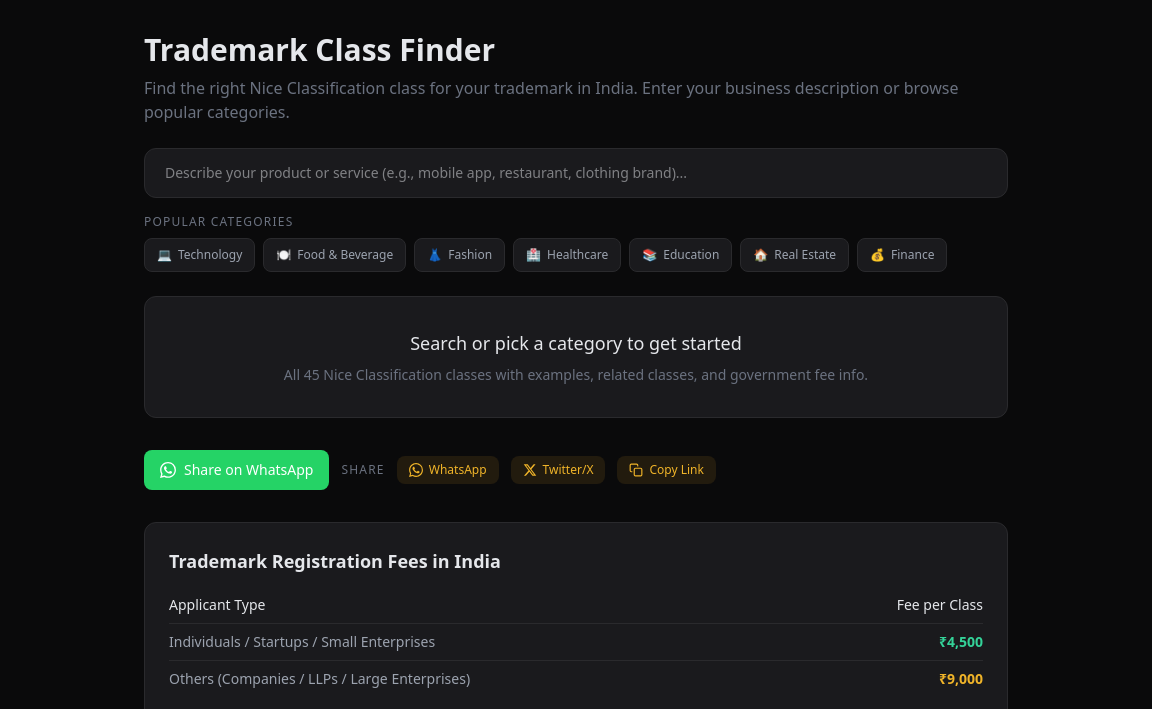
Test: TrademarkClassFinder › shows no-results message for unmatched query
The width and height of the screenshot is (1152, 709).
Type "xyznonexistent123" into the field with placeholder "Describe your product or service" at [576, 173], box [144,148,1008,198]
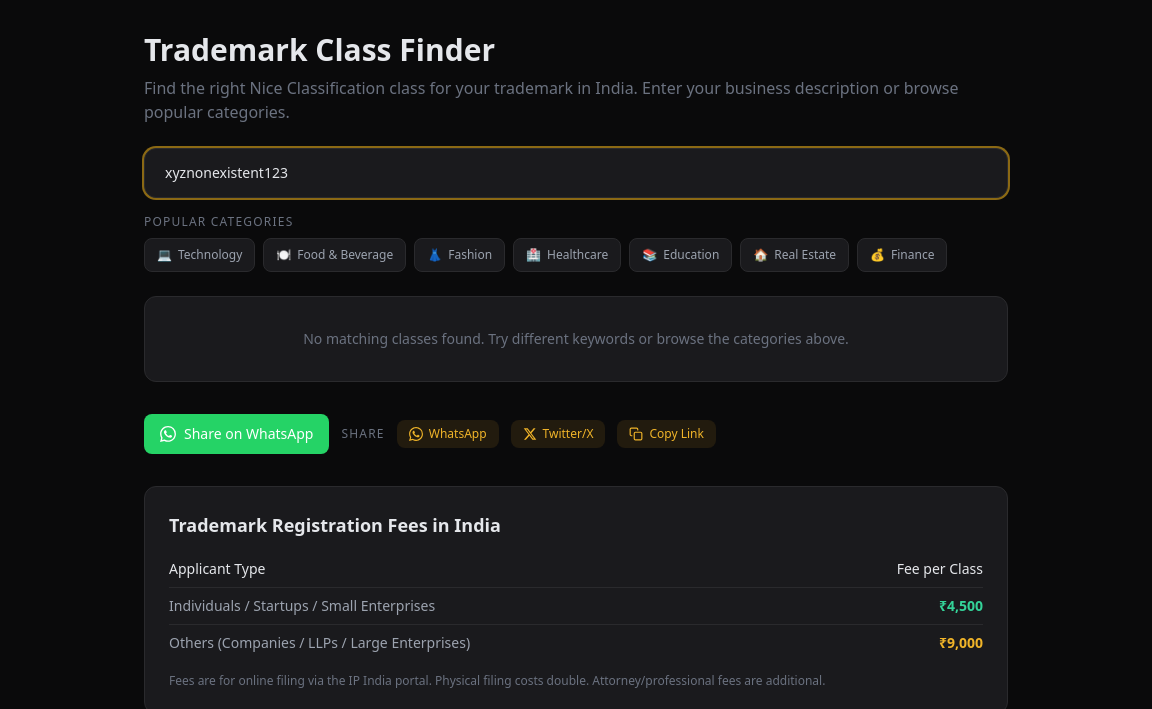
Expected: the text "No matching classes found" is shown, [303,329,849,348]
